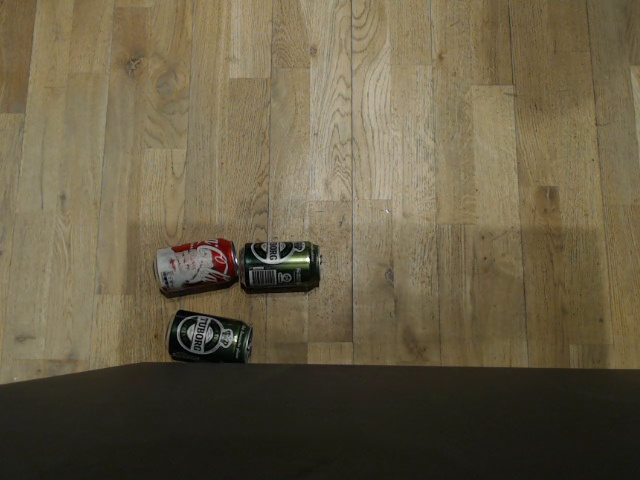beer: (239, 234, 327, 296), (160, 310, 255, 364)
cola: (137, 233, 229, 295)
